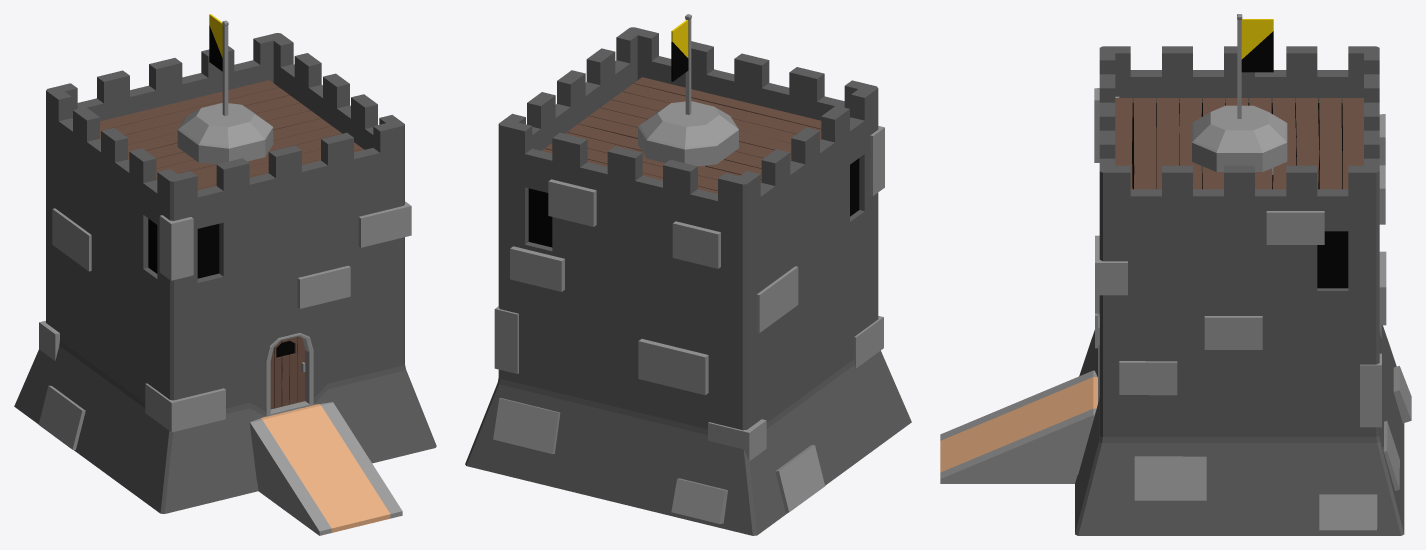
File: medieval_village_castle.fbx
The picture shows the model from 3 angles, left to right: view 1: azimuth 30°, elevation 25°; view 2: azimuth 150°, elevation 25°; view 3: azimuth 270°, elevation 25°; orthographic projection. The views are drawn at different scales.
Visible parts, largest first — view 1: medieval_village_castle; view 2: medieval_village_castle; view 3: medieval_village_castle.
Boxes of the visible parts, box(x1,y1,x2,y2) form: medieval_village_castle: box(14, 14, 436, 535); medieval_village_castle: box(465, 14, 911, 535); medieval_village_castle: box(940, 14, 1411, 535).
Size of the model in its own units: 613 by 840 by 801.
